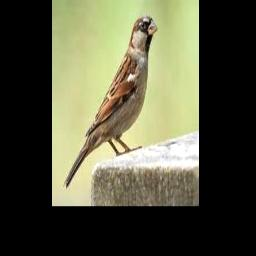Sparrow: (63, 16, 158, 188)
